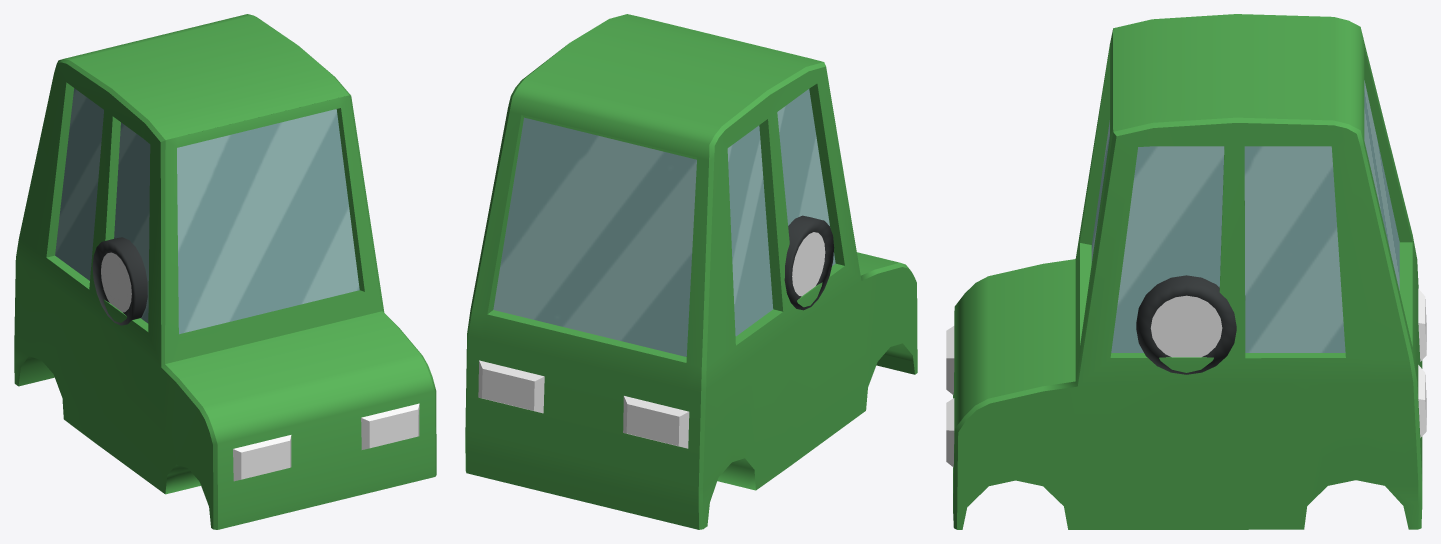
The model's file is car_2_G.fbx.
3 views of the same model, side by side, from view 1: azimuth 30°, elevation 25°; view 2: azimuth 150°, elevation 25°; view 3: azimuth 270°, elevation 25° (orthographic). The views are drawn at different scales.
Parts seen in each view (by area): view 1: car_2_chasis_G, car_2_right_wheel_G, car_2_back_wheel_G; view 2: car_2_chasis_G, car_2_right_wheel_G, car_2_back_wheel_G; view 3: car_2_chasis_G, car_2_left_wheel_G, car_2_back_wheel_G.
Boxes of the visible parts, x1,y1,x2,y2 form: car_2_chasis_G: (14,14,436,529); car_2_right_wheel_G: (92,241,147,324); car_2_back_wheel_G: (92,237,147,325); car_2_chasis_G: (465,14,917,529); car_2_right_wheel_G: (785,219,834,308); car_2_back_wheel_G: (784,215,833,310); car_2_chasis_G: (946,14,1426,529); car_2_left_wheel_G: (1136,283,1236,372); car_2_back_wheel_G: (1136,275,1236,374).
Bounding box in the file's own units: 80.78 × 120 × 130.
